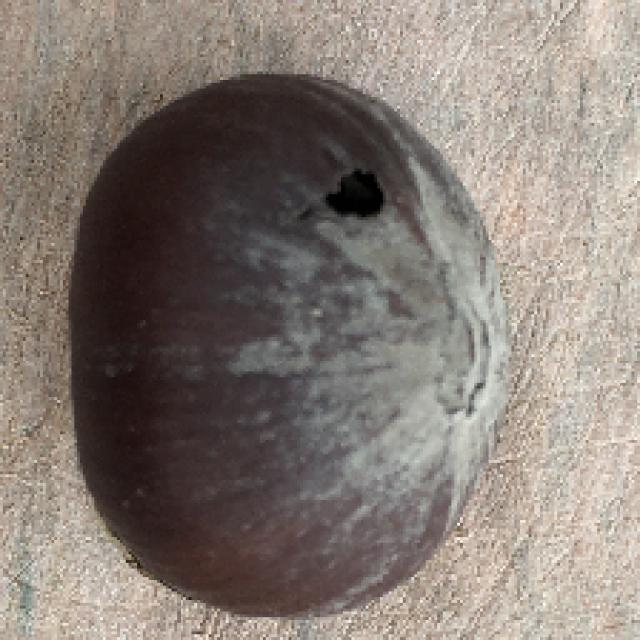damagedHazelnut: (62, 67, 512, 622)
